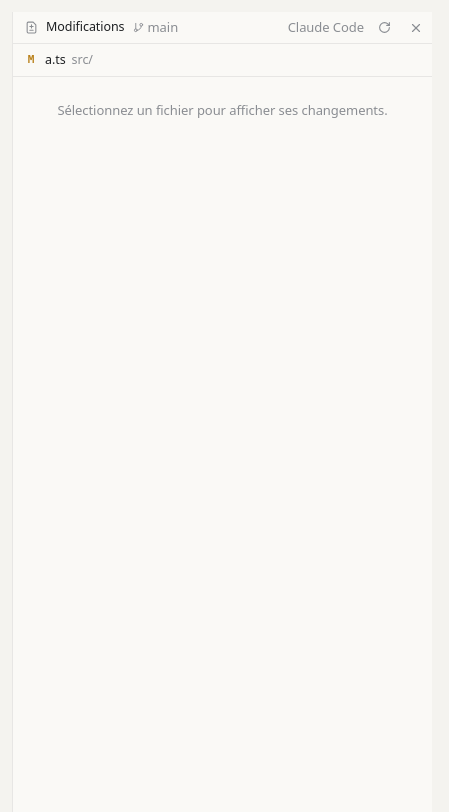
it: ChangesPanel › liste les fichiers et affiche le diff au clic
Click the button "a.ts" at (31, 60), box 13,48 -> 432,72
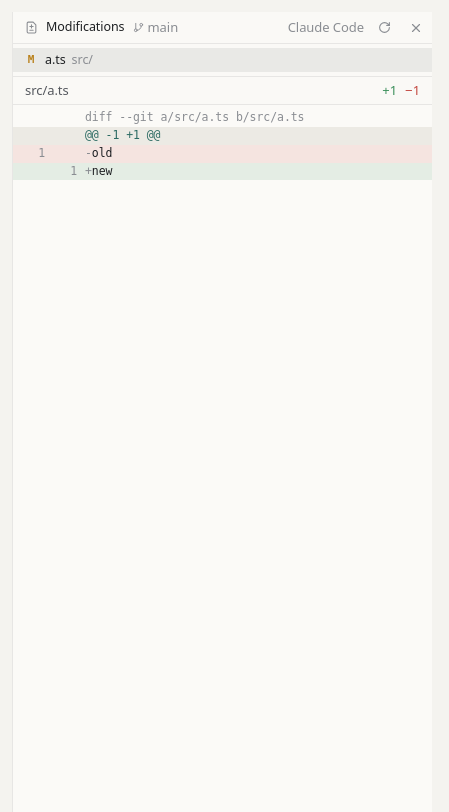
Expected: the text "main" is shown, 148,18 -> 178,37
Expected: the text "new" is shown, 92,164 -> 112,178
Expected: the text "old" is shown, 92,146 -> 112,160
